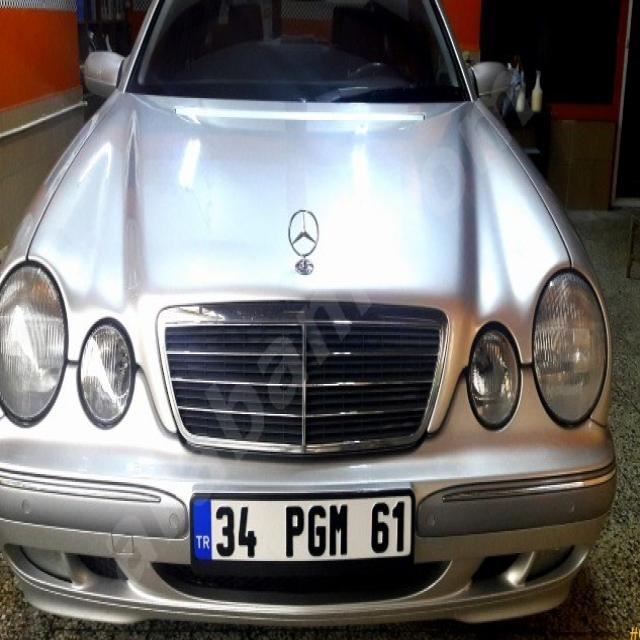license_plate: (192, 494, 413, 562)
